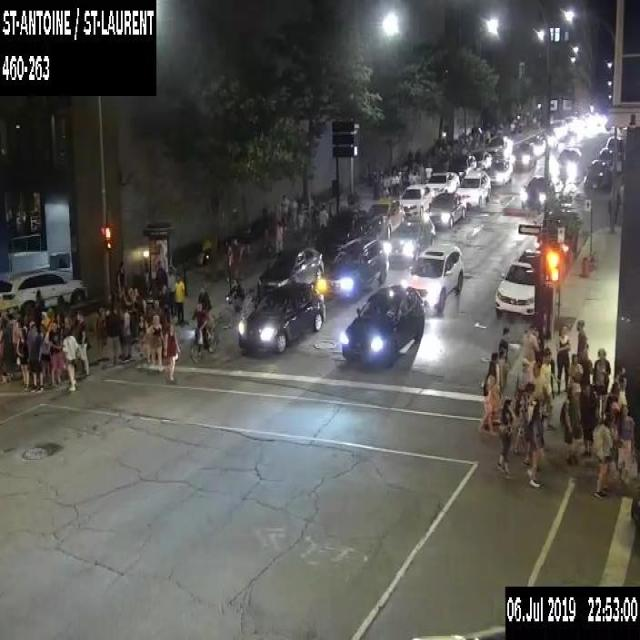cyclist: (188, 302, 218, 362), (190, 284, 220, 341), (220, 279, 248, 328)
pedestrian: (526, 389, 547, 488), (512, 380, 535, 465), (592, 412, 612, 498), (540, 346, 560, 429), (512, 356, 534, 428), (617, 404, 636, 486), (478, 360, 498, 435), (496, 398, 514, 478), (578, 381, 597, 455), (592, 347, 610, 420), (27, 319, 43, 392), (559, 393, 574, 464), (162, 322, 180, 381), (62, 325, 78, 390), (38, 329, 60, 376), (146, 314, 164, 371), (567, 372, 582, 438), (556, 323, 570, 392), (76, 309, 90, 376), (49, 317, 62, 387), (105, 305, 120, 365), (521, 323, 539, 372), (602, 380, 620, 426), (609, 400, 621, 469), (0, 316, 12, 384), (530, 366, 546, 416), (497, 326, 510, 387), (16, 327, 28, 391), (173, 272, 185, 327), (6, 312, 18, 366), (575, 318, 587, 364), (120, 305, 130, 360), (566, 352, 583, 384), (127, 299, 139, 344), (166, 264, 176, 317), (156, 258, 167, 306), (146, 299, 164, 326), (580, 348, 592, 388), (498, 346, 508, 393), (137, 314, 148, 356), (115, 260, 125, 304), (95, 306, 104, 354), (230, 236, 240, 279), (616, 374, 629, 407), (280, 193, 289, 232), (289, 196, 298, 234), (297, 201, 306, 239), (262, 228, 270, 268), (491, 350, 499, 390), (309, 201, 318, 236), (61, 312, 74, 336), (318, 203, 328, 232), (39, 309, 51, 330), (390, 165, 399, 192), (276, 218, 282, 254), (413, 146, 420, 176), (382, 170, 390, 194), (406, 147, 413, 170), (613, 199, 618, 223), (607, 198, 611, 226), (614, 189, 620, 206)
vehicle: (341, 283, 424, 365), (237, 280, 325, 353), (400, 242, 463, 311), (0, 267, 87, 316), (319, 235, 385, 299), (315, 205, 382, 268), (256, 243, 323, 300), (386, 212, 434, 265), (493, 260, 535, 318), (518, 247, 564, 284), (534, 229, 578, 265), (366, 198, 405, 236), (454, 169, 491, 206), (428, 192, 466, 227), (398, 182, 434, 216), (521, 176, 555, 209), (426, 169, 459, 199), (447, 151, 475, 181), (582, 158, 609, 189), (555, 146, 582, 176), (485, 157, 513, 185), (483, 134, 512, 160), (510, 140, 536, 168), (595, 147, 622, 173), (468, 148, 492, 170), (605, 136, 625, 158), (540, 127, 558, 149), (551, 117, 567, 136), (529, 135, 545, 154), (564, 115, 576, 131)
